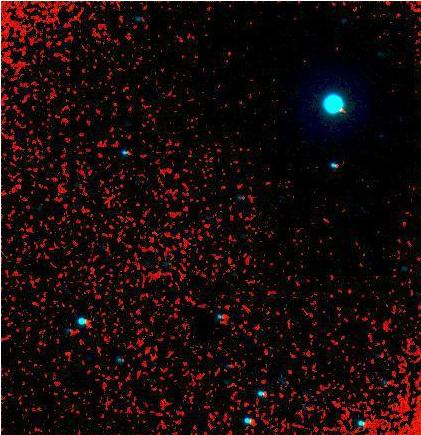star: (316, 93, 346, 123)
